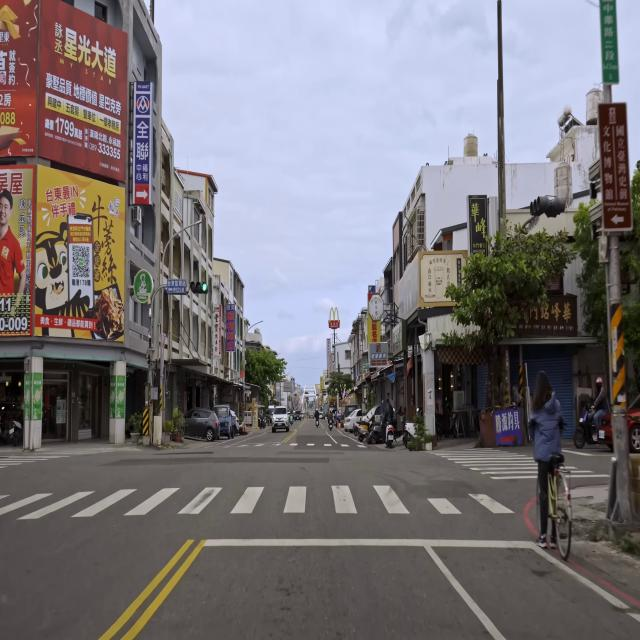green light: (190, 281, 208, 295)
